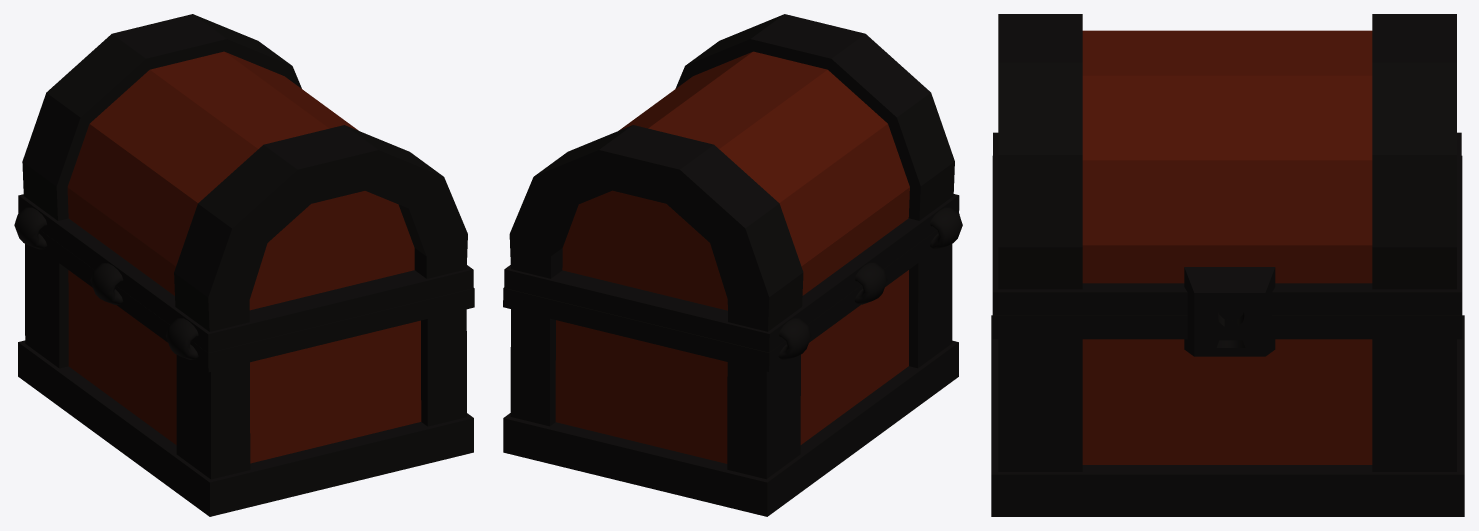
Rendered from Coffre.fbx.
The picture shows the model from 3 angles, left to right: view 1: azimuth 30°, elevation 25°; view 2: azimuth 150°, elevation 25°; view 3: azimuth 270°, elevation 25°; orthographic projection. The views are drawn at different scales.
Parts seen in each view (by area): view 1: Armature_métal_top; view 2: Armature_métal_top; view 3: Armature_métal_top.
Boxes of the visible parts, x1=… form: Armature_métal_top: x1=14, y1=14, x2=474, y2=516; Armature_métal_top: x1=503, y1=14, x2=962, y2=516; Armature_métal_top: x1=991, y1=14, x2=1464, y2=516.
Size of the model in its own units: 26.59 by 27.17 by 29.26.
